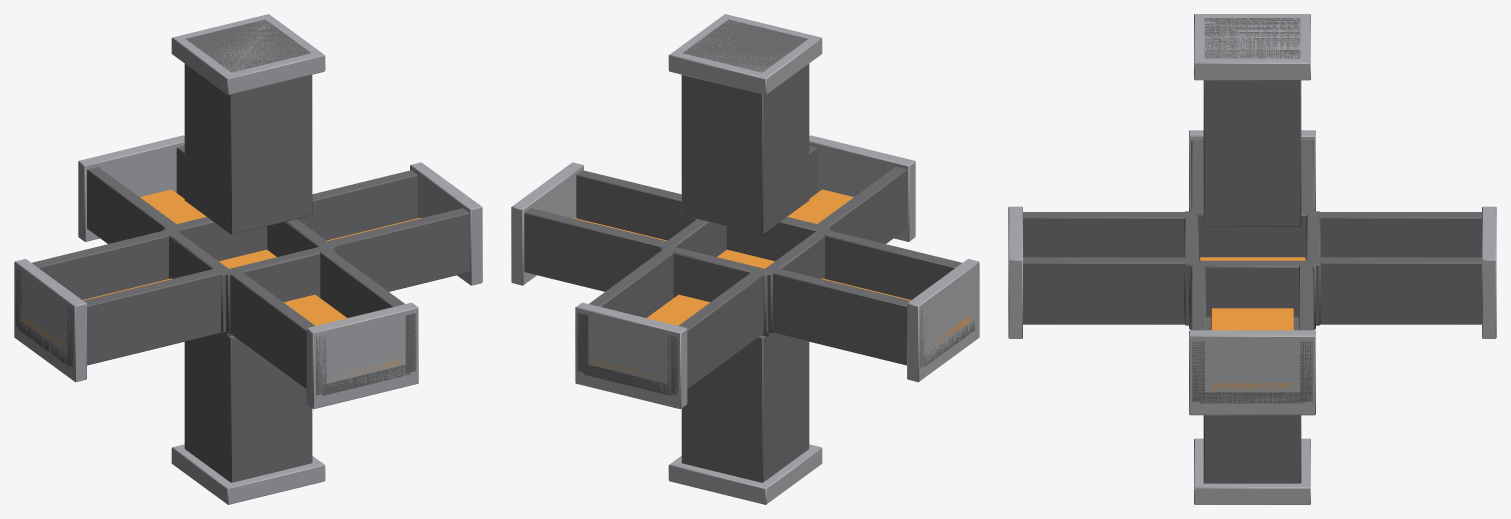
Rendered from feMetalChute.fbx.
The picture shows the model from 3 angles, left to right: view 1: azimuth 30°, elevation 25°; view 2: azimuth 150°, elevation 25°; view 3: azimuth 270°, elevation 25°; orthographic projection. The views are drawn at different scales.
Visible parts, largest first — view 1: FeArm_PY.001, FeArm_PX.001, FeArm_PZ.001, FeArm_NY.001, FeArm_NX.001, FeArm_NZ.001, feMetalChute_Core; view 2: FeArm_PY.001, FeArm_PX.001, FeArm_NZ.001, FeArm_NY.001, FeArm_NX.001, FeArm_PZ.001, feMetalChute_Core; view 3: FeArm_PY.001, FeArm_PZ.001, FeArm_NZ.001, FeArm_NX.001, feMetalChute_Core, FeArm_NY.001, FeArm_PX.001.
Boxes of the visible parts, left/top/right/bottom form: FeArm_PY.001: left=171, top=14, right=325, bottom=234; FeArm_PX.001: left=14, top=229, right=227, bottom=382; FeArm_PZ.001: left=227, top=247, right=418, bottom=409; FeArm_NY.001: left=171, top=333, right=325, bottom=504; FeArm_NX.001: left=297, top=162, right=482, bottom=291; FeArm_NZ.001: left=78, top=135, right=206, bottom=243; feMetalChute_Core: left=162, top=217, right=335, bottom=336; FeArm_PY.001: left=668, top=14, right=822, bottom=234; FeArm_PX.001: left=766, top=229, right=979, bottom=382; FeArm_NZ.001: left=575, top=247, right=765, bottom=409; FeArm_NY.001: left=668, top=333, right=822, bottom=504; FeArm_NX.001: left=511, top=162, right=696, bottom=291; FeArm_PZ.001: left=787, top=135, right=915, bottom=243; feMetalChute_Core: left=658, top=217, right=831, bottom=336; FeArm_PY.001: left=1194, top=14, right=1310, bottom=226; FeArm_PZ.001: left=1008, top=206, right=1192, bottom=338; FeArm_NZ.001: left=1312, top=206, right=1496, bottom=338; FeArm_NX.001: left=1189, top=262, right=1315, bottom=415; feMetalChute_Core: left=1184, top=209, right=1320, bottom=329; FeArm_NY.001: left=1194, top=415, right=1310, bottom=504; FeArm_PX.001: left=1189, top=130, right=1315, bottom=212.
Size of the model in its own units: 1 by 1 by 1.
